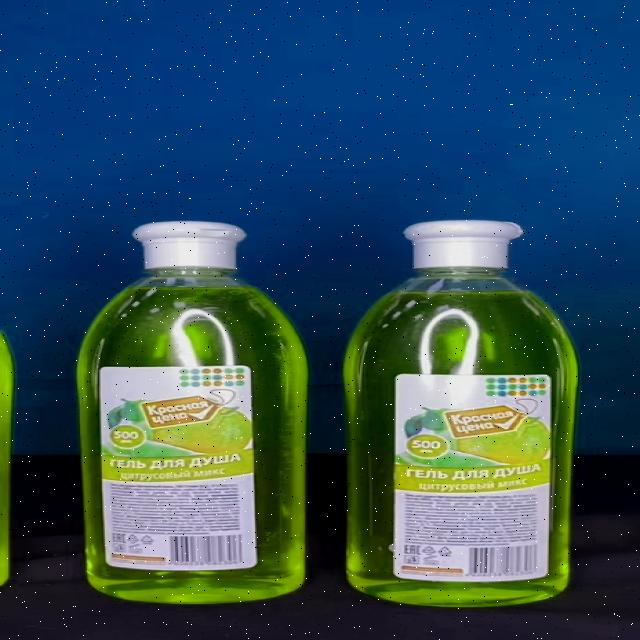Bottle: (344, 219, 578, 606), (76, 222, 310, 604)
Cap: (405, 220, 524, 268), (131, 222, 247, 270)
